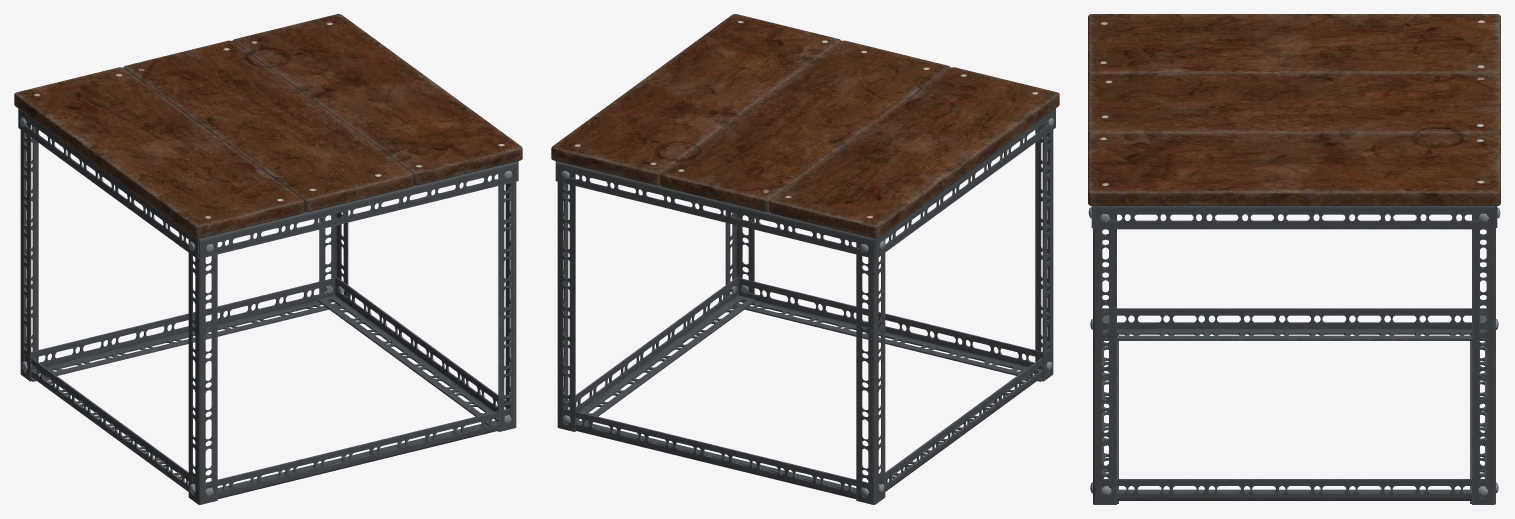
File: industrial_coffee_table.glb
The picture shows the model from 3 angles, left to right: view 1: azimuth 30°, elevation 25°; view 2: azimuth 150°, elevation 25°; view 3: azimuth 270°, elevation 25°; orthographic projection. The views are drawn at different scales.
Parts seen in each view (by area): view 1: industrial_coffee_table; view 2: industrial_coffee_table; view 3: industrial_coffee_table.
Boxes of the visible parts, left/top/right/bottom form: industrial_coffee_table: left=14, top=14, right=522, bottom=504; industrial_coffee_table: left=551, top=14, right=1059, bottom=504; industrial_coffee_table: left=1088, top=14, right=1500, bottom=504.
Bounding box in the file's own units: 0.7783 × 0.6384 × 0.7579.
1 material, 1 textured.
